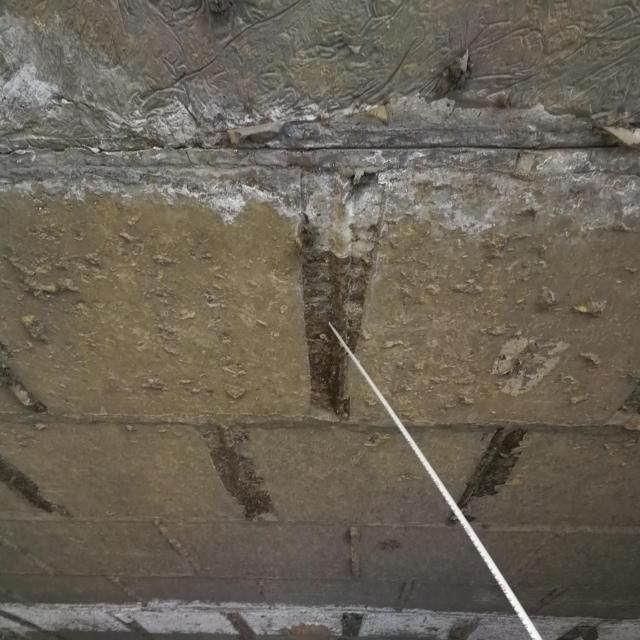Rebar: (291, 154, 391, 422)
